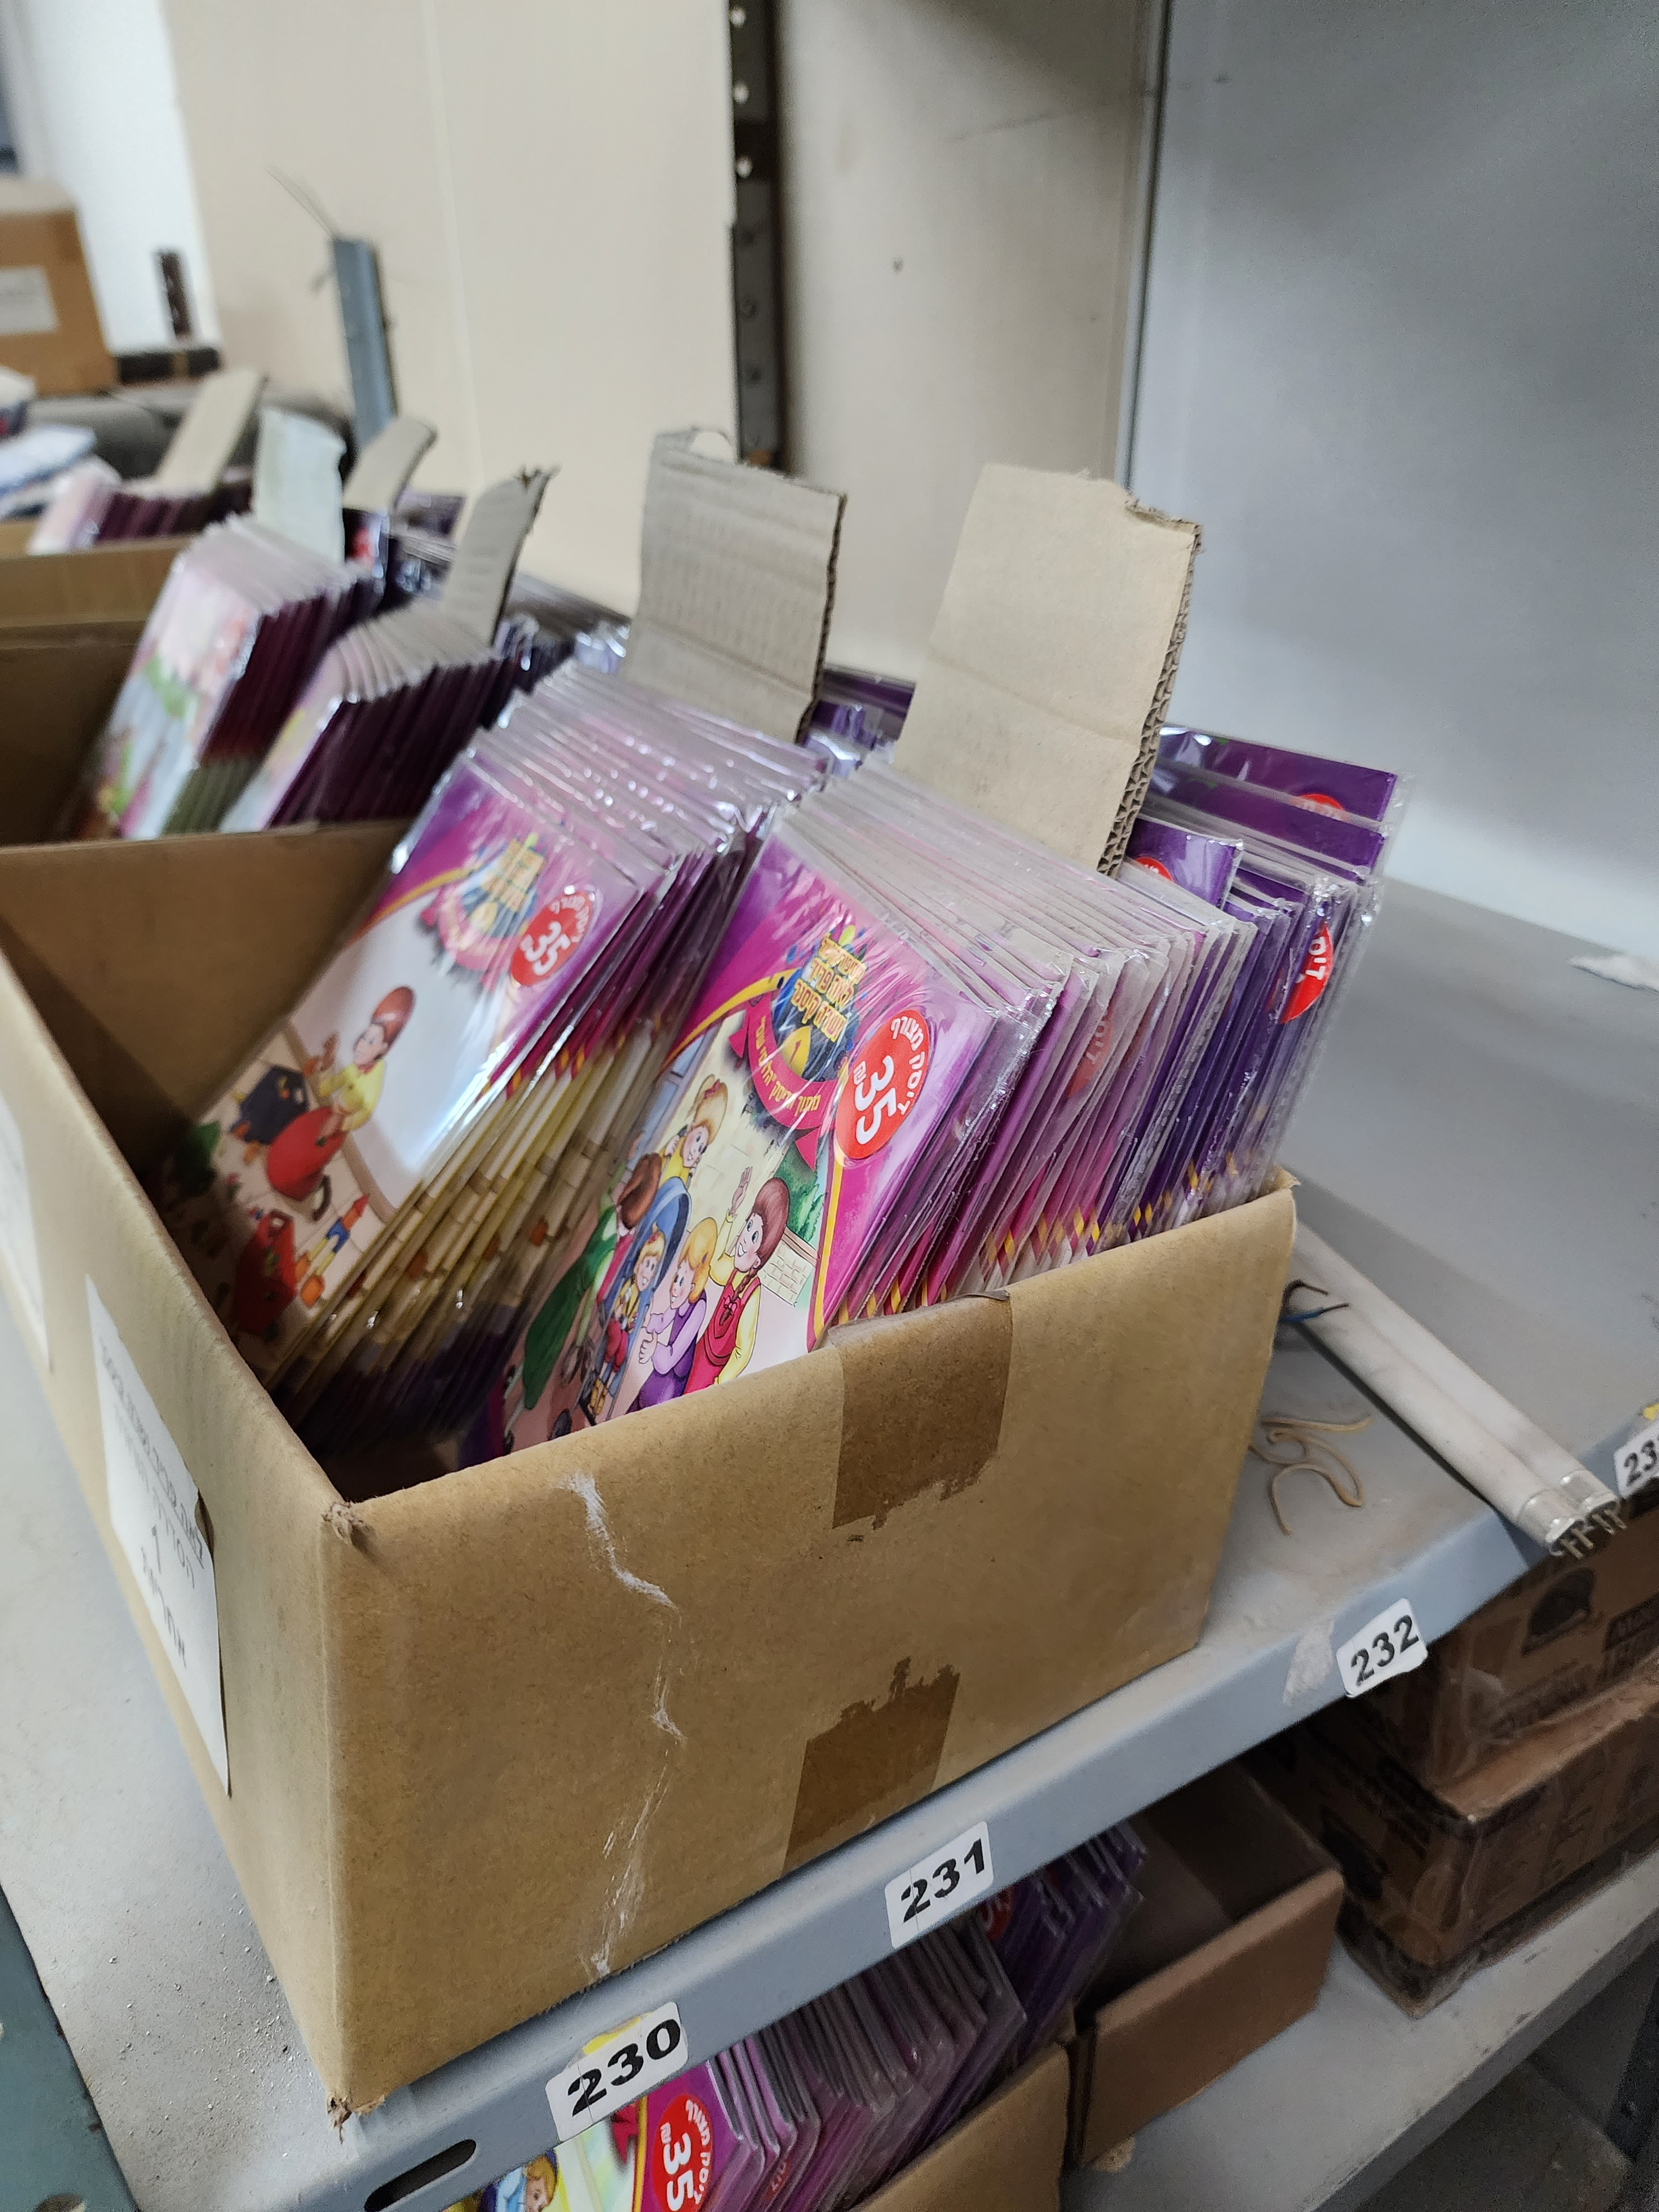box: (10, 813, 1387, 1994)
